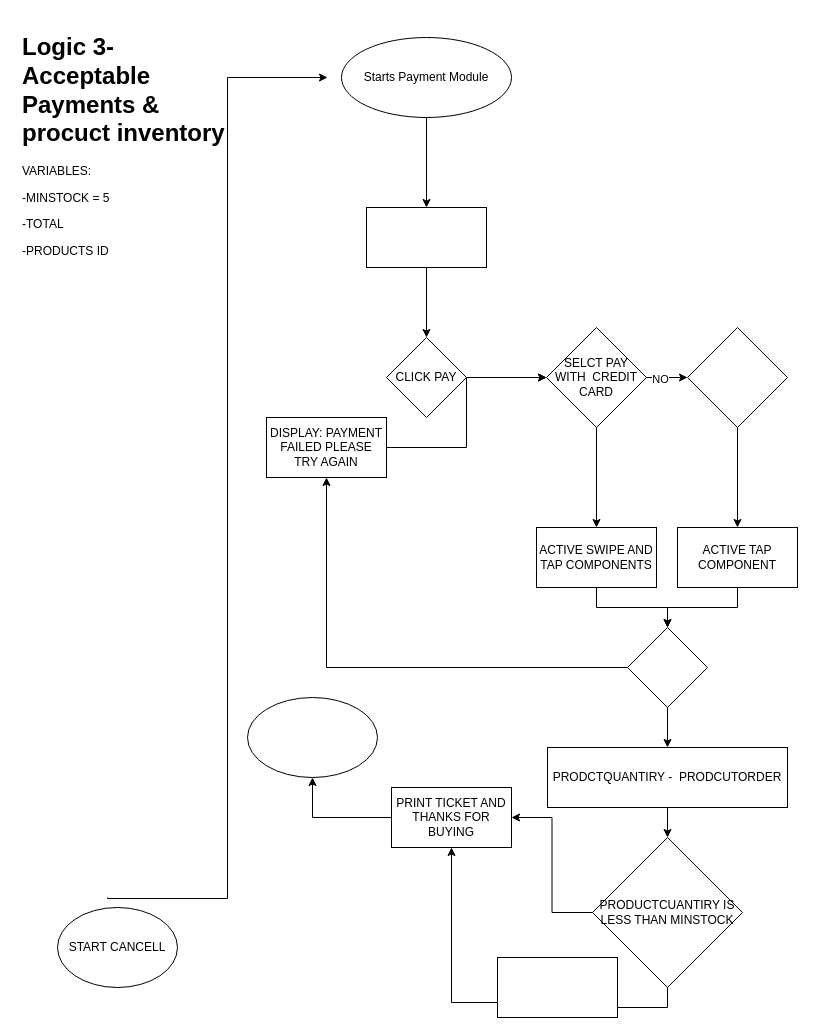
This 815x1035 diagram has some shape labels left out. Each missing label, with the box of its shape:
Description: click LCD screen Print Order: (366, 206, 486, 268)
END OF MODULE: (246, 696, 378, 778)
ORDER MORE PRODUCTS OF PRODCT: (496, 956, 618, 1018)
PAYMENT FAIL?: (626, 626, 708, 708)
SELECT PAY NFC: (686, 326, 788, 428)
